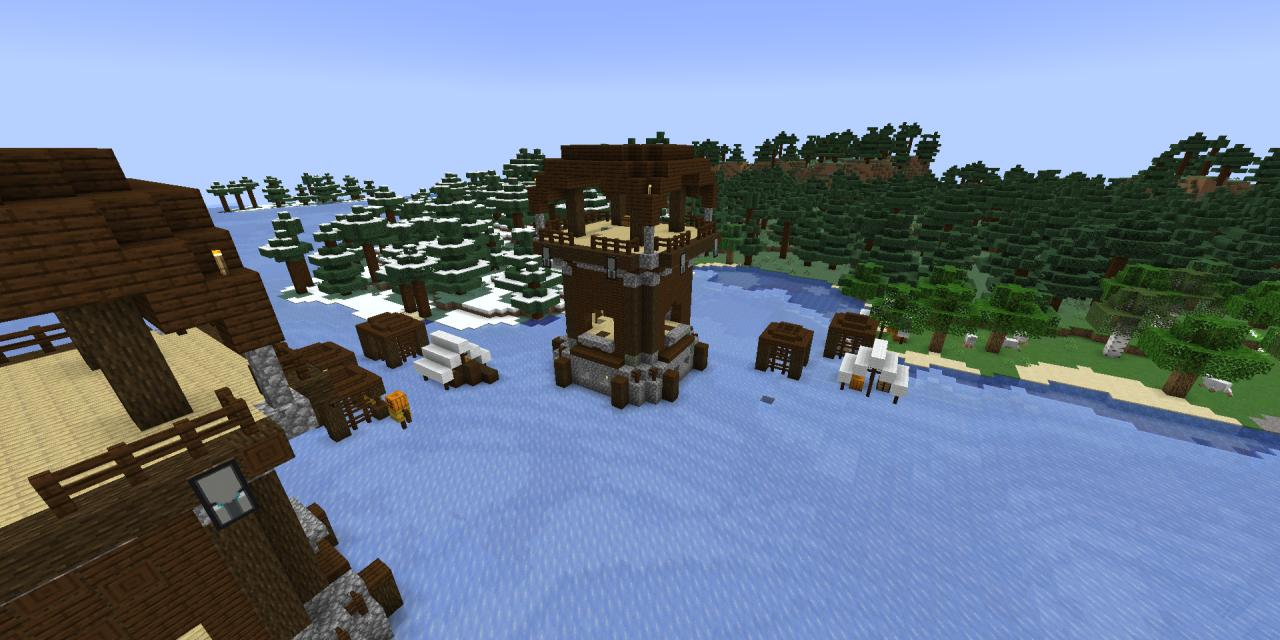pillager outpost: (0, 110, 410, 640), (520, 131, 737, 412)
